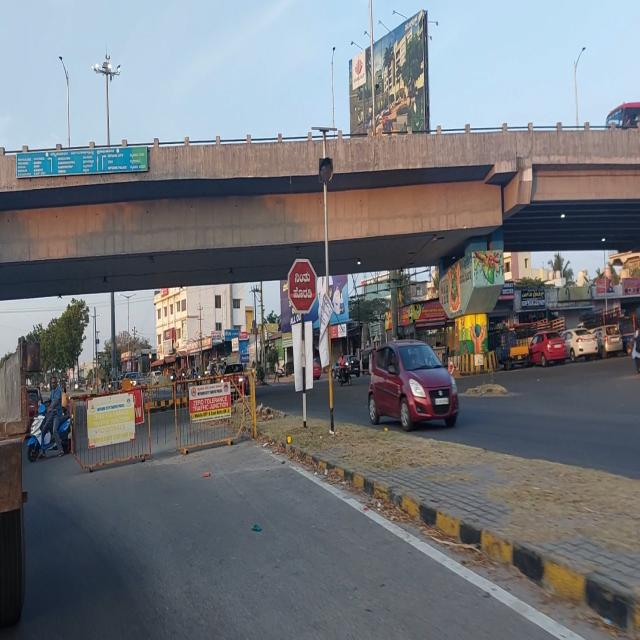bien_cam: (287, 259, 317, 313)
